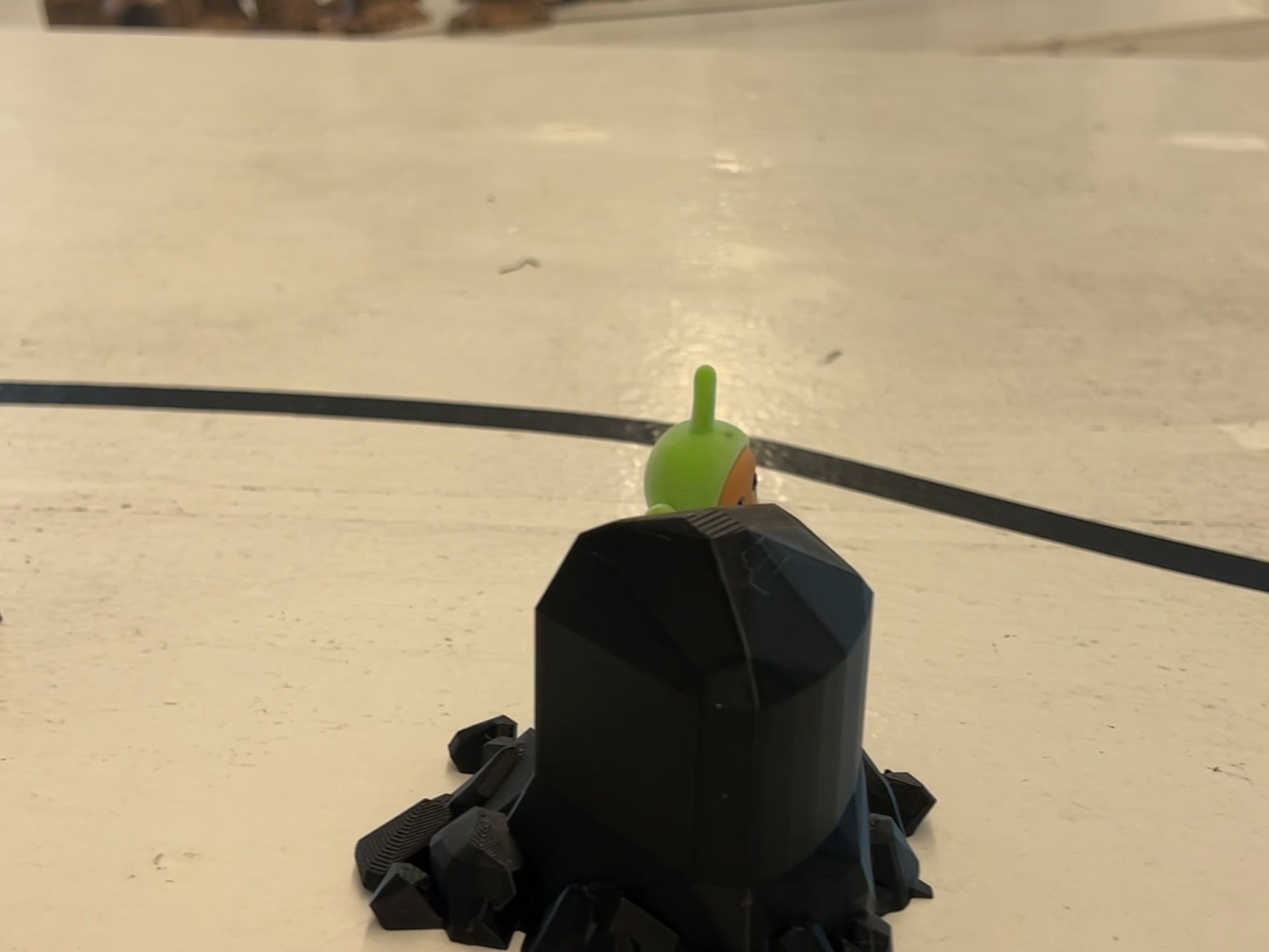teletubby: (644, 365, 758, 514)
